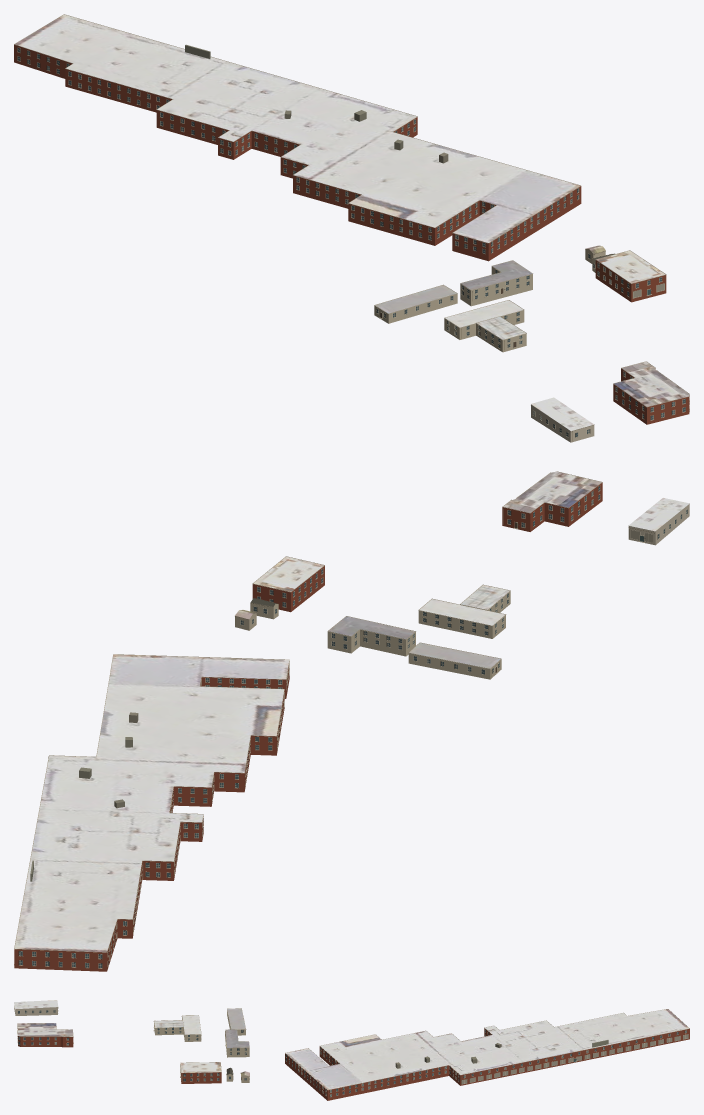
3 renders of one model, top to bottom at view 1: azimuth 30°, elevation 25°; view 2: azimuth 150°, elevation 25°; view 3: azimuth 270°, elevation 25°, orthographic. The views are drawn at different scales.
Parts seen in each view (by area): view 1: -10_0_271022932_0, -10_0_679109098_53, -10_0_679258306_54; view 2: -10_0_271022932_0, -10_0_679109098_53; view 3: -10_0_271022932_0, -10_0_679109098_53, -10_0_679258306_54.
Part boxes in pixels (<box>): -10_0_271022932_0: <box>14,14,689,441</box>; -10_0_679109098_53: <box>14,44,689,424</box>; -10_0_679258306_54: <box>531,404,594,442</box>; -10_0_271022932_0: <box>14,471,689,968</box>; -10_0_679109098_53: <box>14,482,643,971</box>; -10_0_271022932_0: <box>14,1000,689,1097</box>; -10_0_679109098_53: <box>17,1028,689,1100</box>; -10_0_679258306_54: <box>14,1007,57,1015</box>.
Bounding box in the file's own units: 118 × 14.26 × 415.
14 materials, 1 textured.
